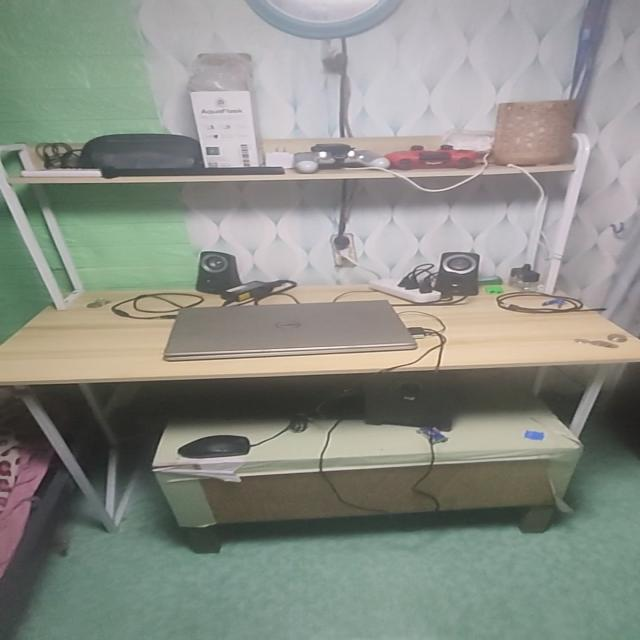table: (0, 277, 640, 559)
